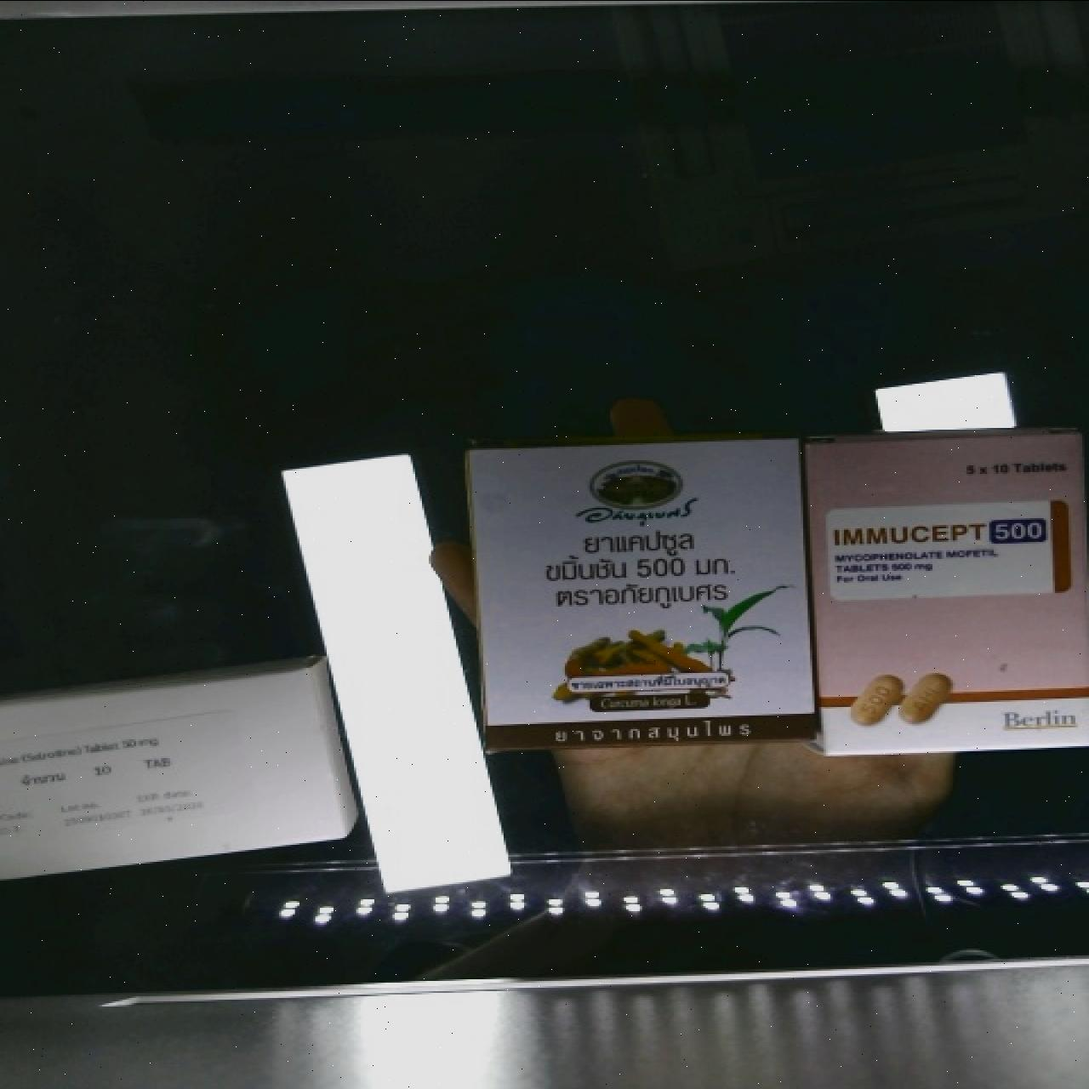medicine_label_obb: (519, 516, 763, 631), (824, 501, 1059, 560)
